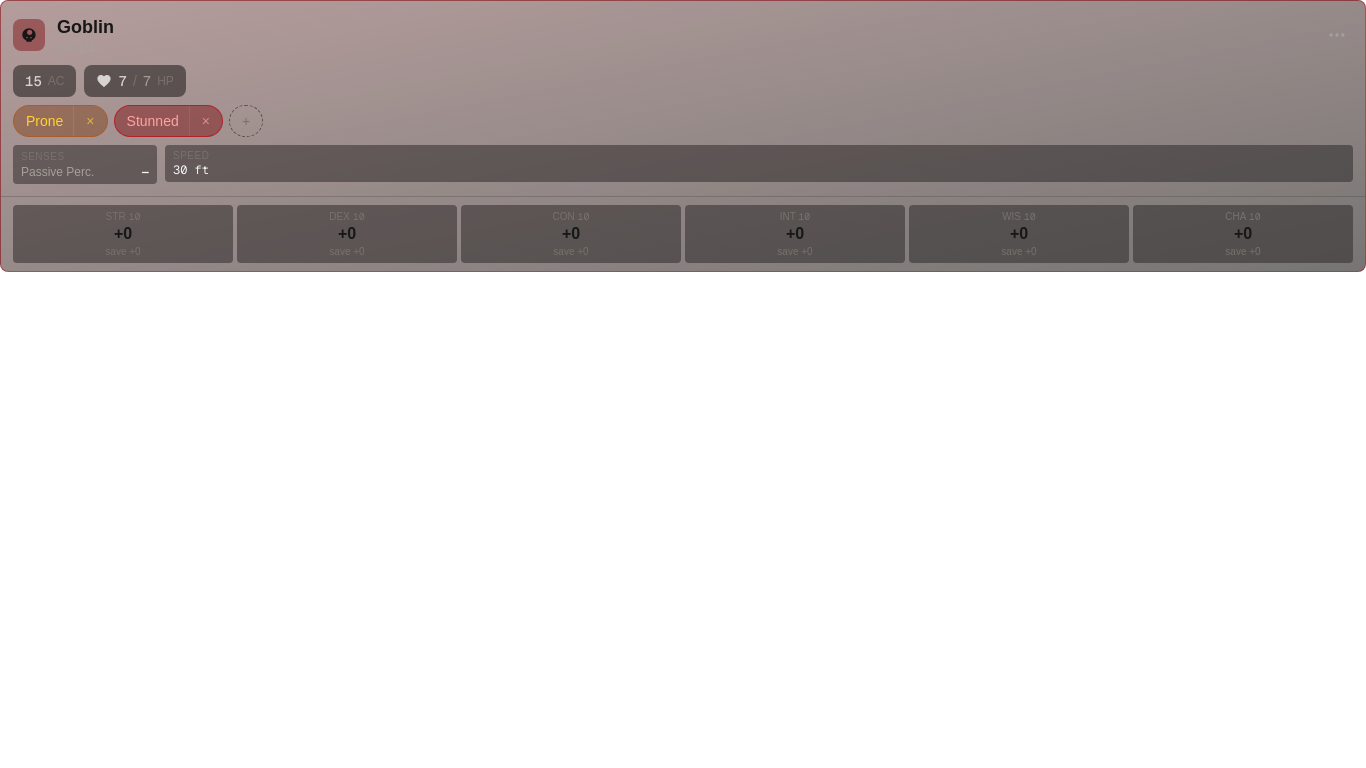
Test: condition chips + picker › Clear all empties the list; Done closes the picker
Click the button named "Add condition to Goblin" at (246, 121), box [229,105,263,137]
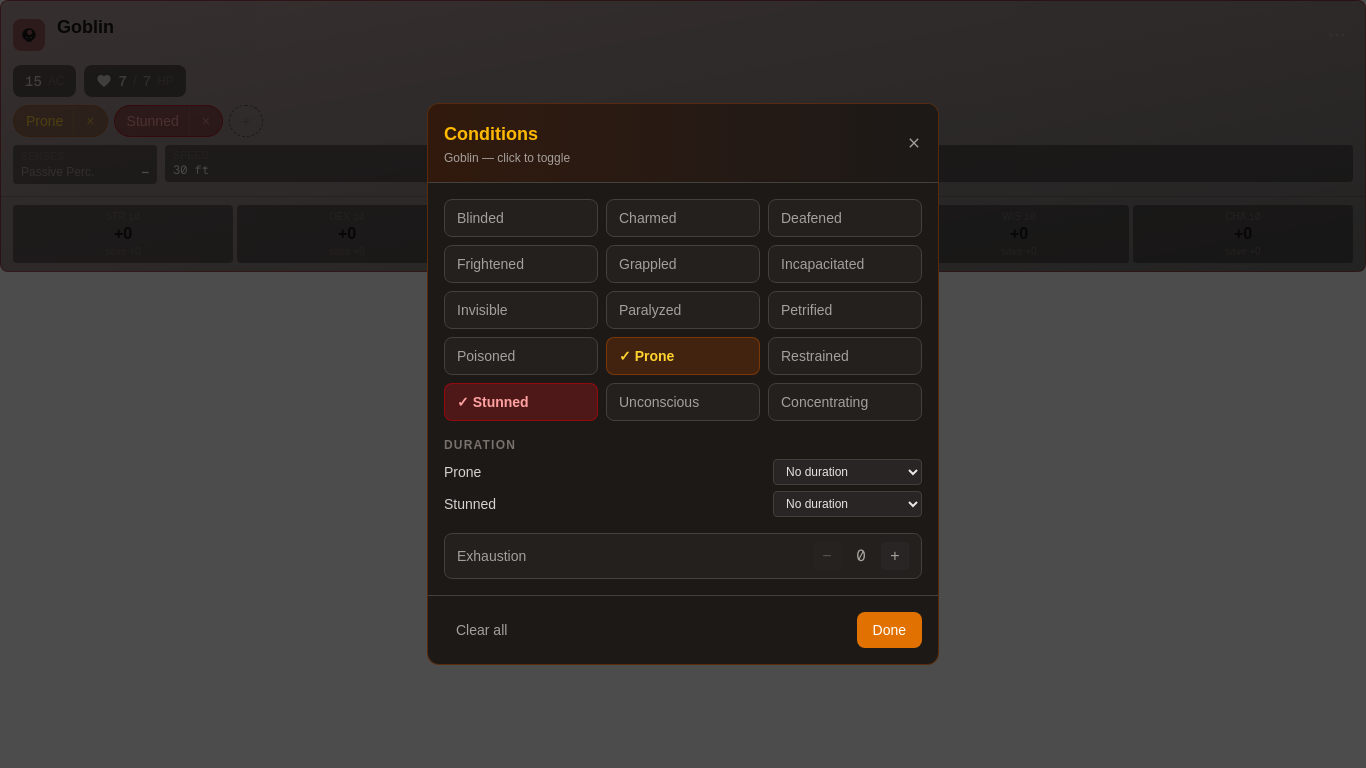
Click the button "Clear all" at (482, 630), box [444,612,519,648]
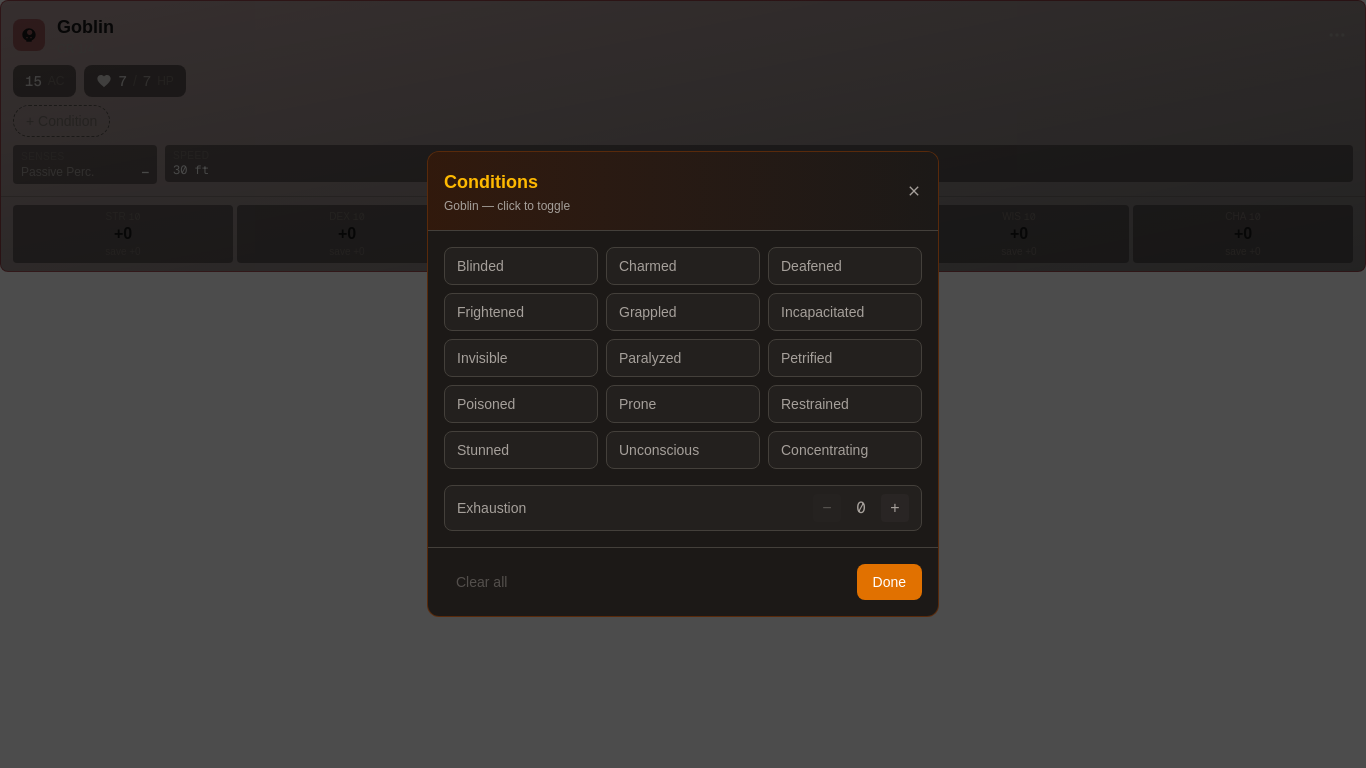
Click the button "Done" at (889, 582), box [856,564,922,600]
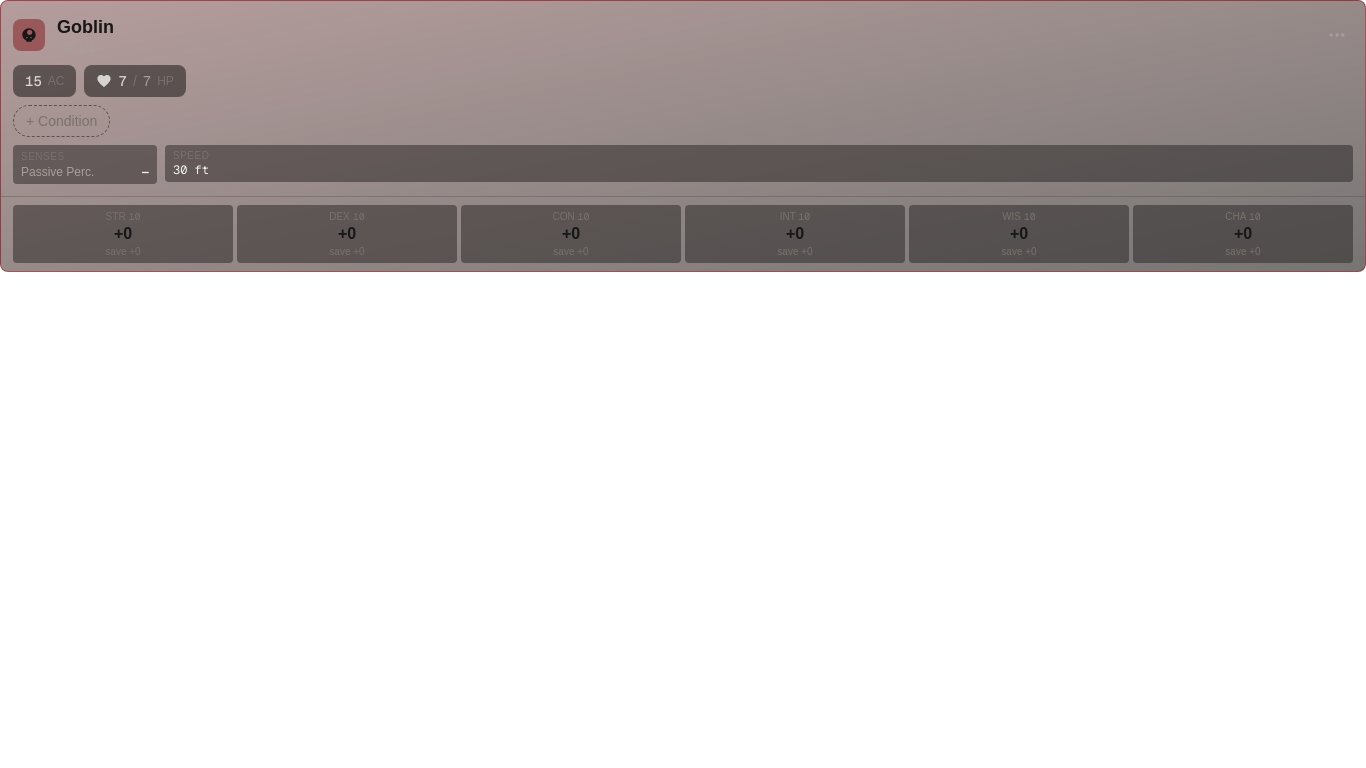
expect the button "Clear all" is gone: met
